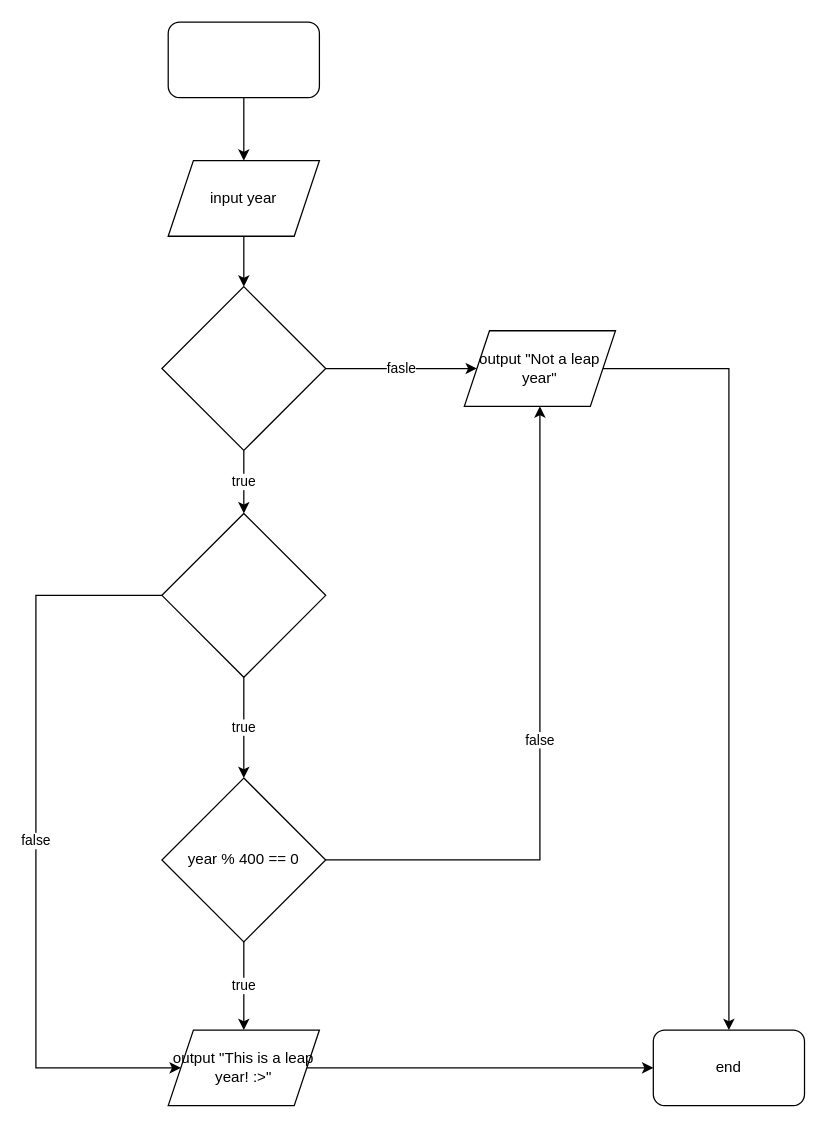
Some shapes in this 827 by 1128 pixel diagram are drawn without their labels. Each missing label, with the centre of its shape:
"start" goes at point (243, 59).
"year % 100 == 0" goes at point (243, 594).
"year % 4 == 0" goes at point (243, 367).
